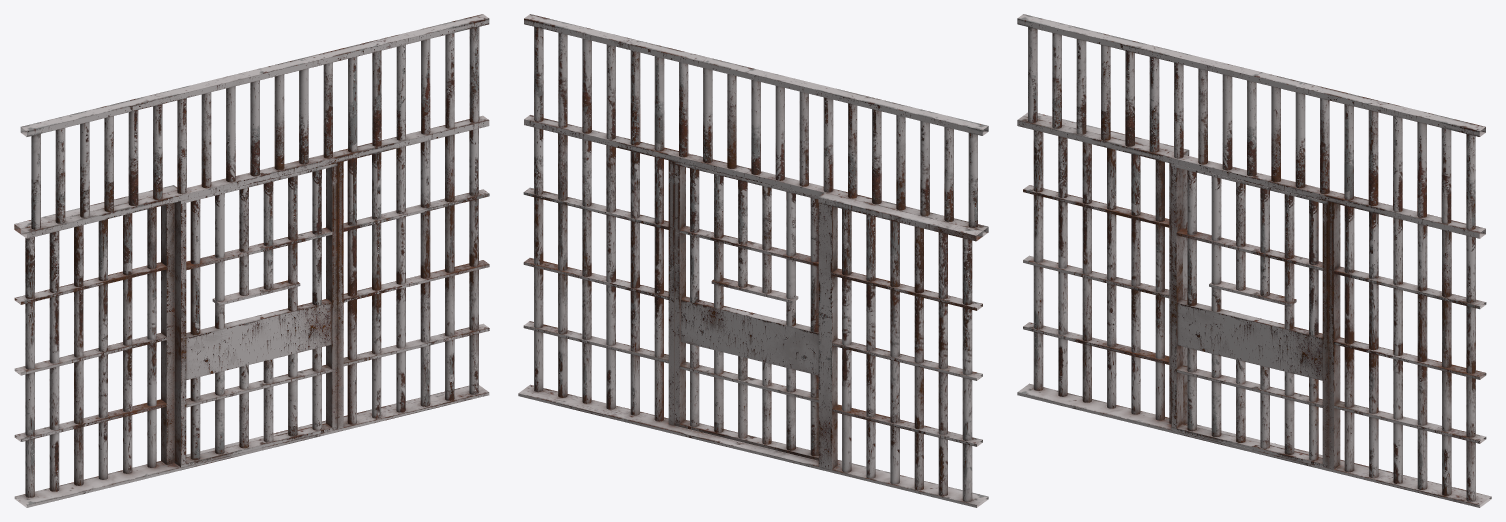
Rendered from PortePrison.fbx.
3 renders of one model, left to right at view 1: azimuth 30°, elevation 25°; view 2: azimuth 150°, elevation 25°; view 3: azimuth 330°, elevation 25°, orthographic.
Visible parts, largest first — view 1: Bars; view 2: Bars; view 3: Bars.
Part boxes in pixels (x1=…): Bars: x1=14, y1=14, x2=489, y2=507; Bars: x1=518, y1=14, x2=988, y2=507; Bars: x1=1017, y1=14, x2=1491, y2=507.
Bounding box in the file's own units: 852 × 662 × 40.04.
